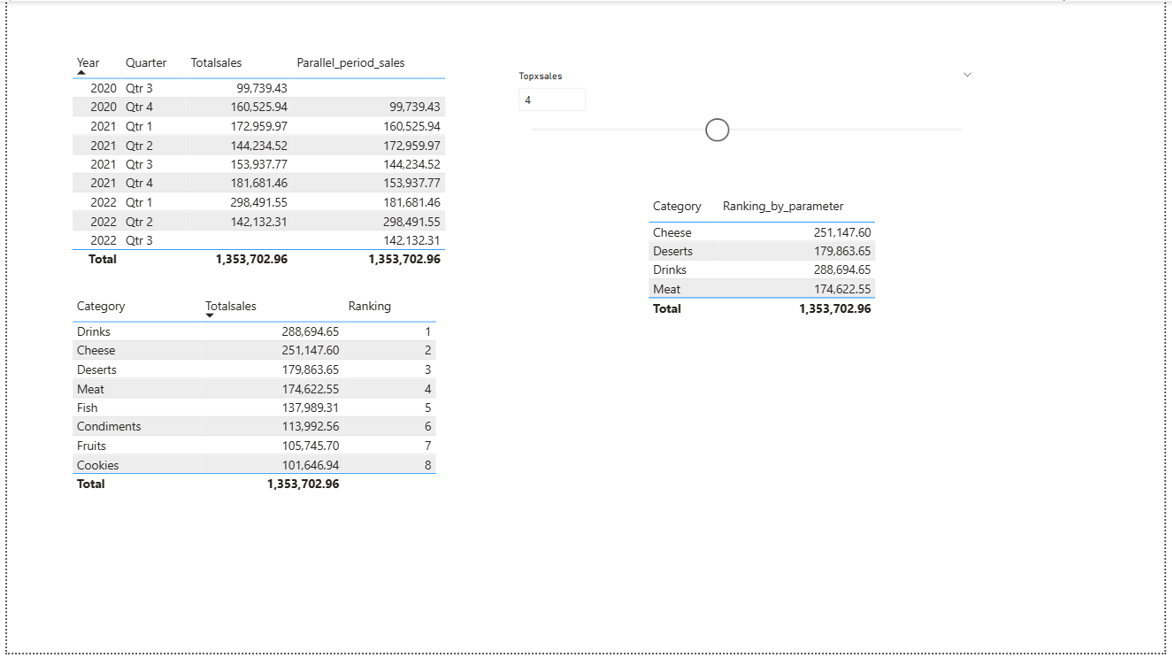

The dashboard page shown, as its layout file describes it:
{"tool":"powerbi","page":{"name":"Category Sales Ranking","canvas":[1280,720],"ordinal":1},"visuals":[{"type":"tableEx","fields":{"Values":["Dates_tbl.Date.Variation.Date Hierarchy.Year","Dates_tbl.Date.Variation.Date Hierarchy.Quarter","Measures_tbl.Totalsales","Measures_tbl.Parallel_period_sales"]},"box":[66,51.4,432.9,253.1],"z":0},{"type":"tableEx","fields":{"Values":["Order_tbl.Category","Measures_tbl.Totalsales","Measures_tbl.Ranking"]},"box":[66,320.4,423.1,255.6],"z":1000},{"type":"slicer","fields":{"Values":["Topxsales.Topxsales"]},"box":[552.4,70.5,526.5,139.5],"z":2000},{"type":"tableEx","fields":{"Values":["Order_tbl.Category","Measures_tbl.Ranking_by_parameter"]},"box":[703.4,210,271.9,382.6],"z":3000}]}

Visuals, with their boxes in screenshot pixels (x1, y1, x2, y2), scaled from the page's 1280x720 canvas onto the 1172x657 screenshot:
tableEx - Dates_tbl.Date.Variation.Date Hierarchy.Year x Dates_tbl.Date.Variation.Date Hierarchy.Quarter: [left=60, top=47, right=457, bottom=278]
tableEx - Order_tbl.Category x Measures_tbl.Totalsales: [left=60, top=292, right=448, bottom=526]
slicer - Topxsales.Topxsales: [left=506, top=64, right=988, bottom=192]
tableEx - Order_tbl.Category x Measures_tbl.Ranking_by_parameter: [left=644, top=192, right=893, bottom=541]
